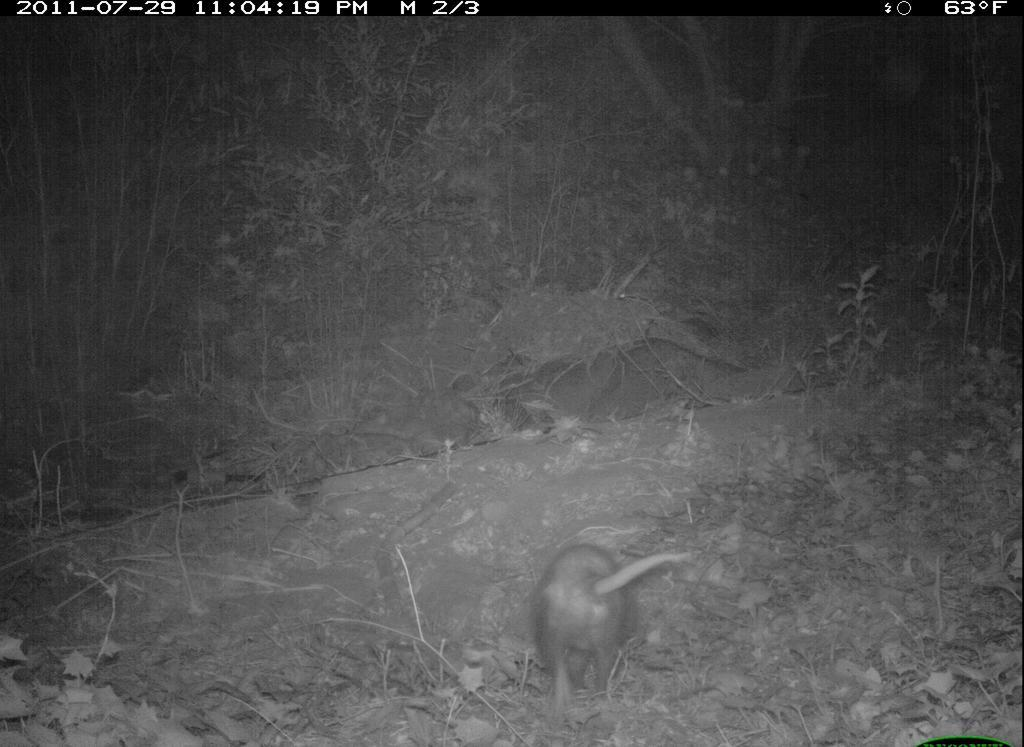opossum: (532, 533, 698, 721)
